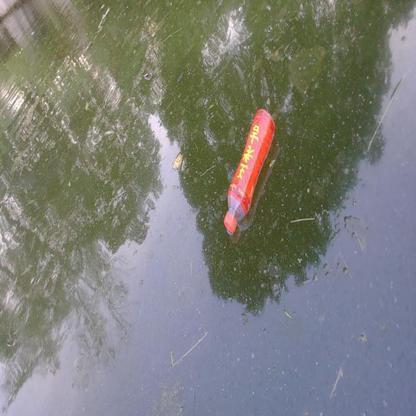plastic bottle: (223, 109, 277, 233)
